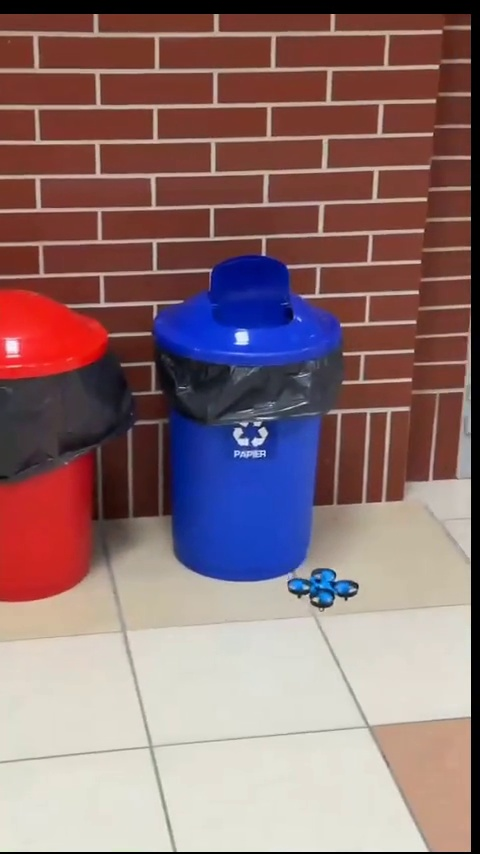drone: (287, 573, 360, 612)
